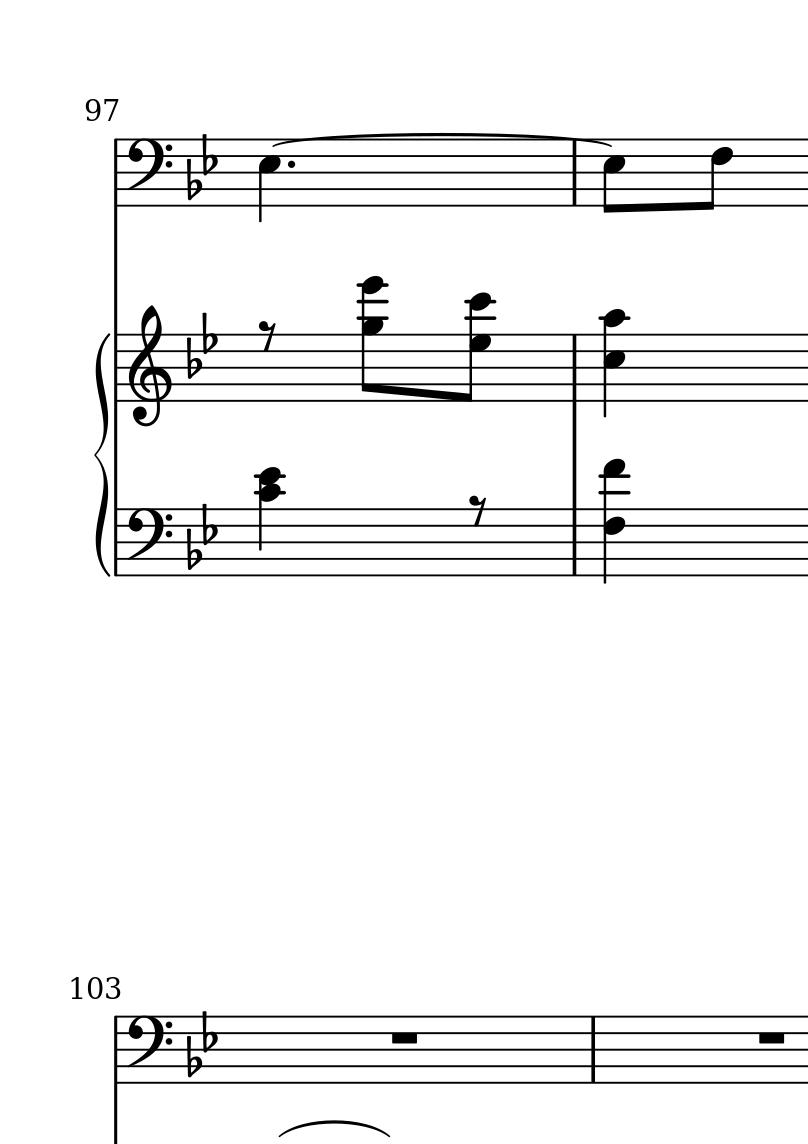0: (86, 974, 103, 1002)
1: (70, 974, 85, 1002)
3: (106, 975, 122, 1002)
4_5: (257, 137, 282, 225)
7: (104, 96, 120, 124)
8_10_12: (253, 466, 288, 578)
8_5: (602, 138, 626, 216)
8_5_10: (598, 307, 630, 418)
8_6: (701, 137, 734, 212)
8_6_13: (598, 456, 629, 585)
8_7_12: (455, 292, 496, 402)
8_9_14: (356, 274, 390, 404)
B_F: (186, 310, 221, 381), (183, 135, 218, 201), (186, 504, 217, 572)
Brace: (94, 324, 112, 581)
E_F: (185, 1009, 220, 1079)
Fclef: (124, 1014, 174, 1085), (123, 137, 173, 207), (125, 507, 173, 579)
Gclef: (127, 304, 173, 429)
Rests1: (754, 1027, 790, 1047), (387, 1028, 422, 1048)
Rests8: (466, 492, 489, 526), (257, 318, 278, 352)
Single_barline: (565, 334, 586, 401), (566, 508, 585, 576), (566, 142, 585, 206), (584, 1016, 602, 1083), (109, 1017, 126, 1083), (109, 139, 125, 207), (111, 334, 126, 404), (111, 508, 125, 577)
Slur: (274, 133, 611, 146), (276, 1120, 389, 1139)
dot: (284, 158, 298, 172)
